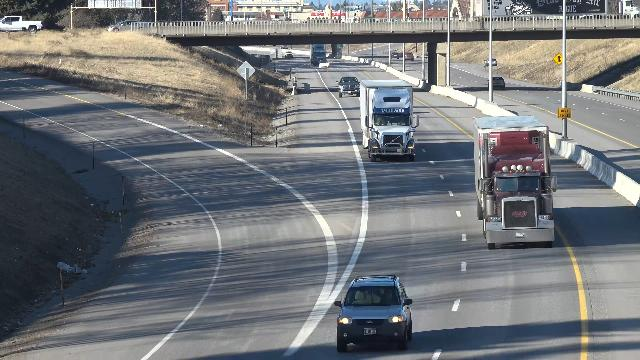car: (337, 273, 415, 347), (336, 70, 363, 99), (106, 19, 147, 36), (488, 73, 507, 91), (404, 51, 416, 62), (318, 60, 331, 70), (284, 50, 294, 60), (391, 51, 400, 61)
pickup-truck: (0, 14, 47, 37)
truck: (471, 116, 559, 249), (361, 79, 418, 159), (312, 42, 326, 64)
